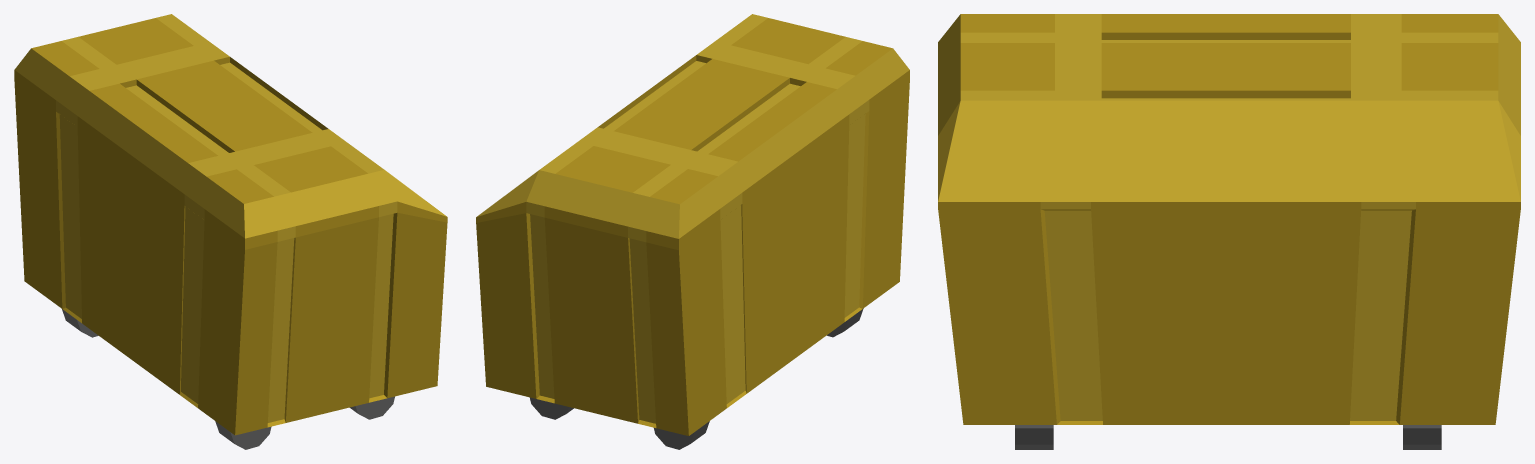
File: lixeira.fbx
3 renders of one model, left to right at view 1: azimuth 30°, elevation 25°; view 2: azimuth 150°, elevation 25°; view 3: azimuth 270°, elevation 25°, orthographic. The views are drawn at different scales.
Visible parts, largest first — view 1: Lixeira, Cylinder.001, Cylinder; view 2: Lixeira, Cylinder.002, Cylinder.003; view 3: Lixeira, Cylinder, Cylinder.003.
Part boxes in pixels (x1=…): Lixeira: x1=14, y1=14, x2=447, y2=435; Cylinder.001: x1=215, y1=421, x2=271, y2=449; Cylinder: x1=350, y1=396, x2=394, y2=419; Lixeira: x1=476, y1=14, x2=909, y2=435; Cylinder.002: x1=654, y1=421, x2=709, y2=449; Cylinder.003: x1=529, y1=397, x2=573, y2=419; Lixeira: x1=938, y1=14, x2=1520, y2=424; Cylinder: x1=1015, y1=425, x2=1053, y2=449; Cylinder.003: x1=1403, y1=425, x2=1441, y2=449.
Bounding box in the file's own units: 8.26 × 10.42 × 16.3.
